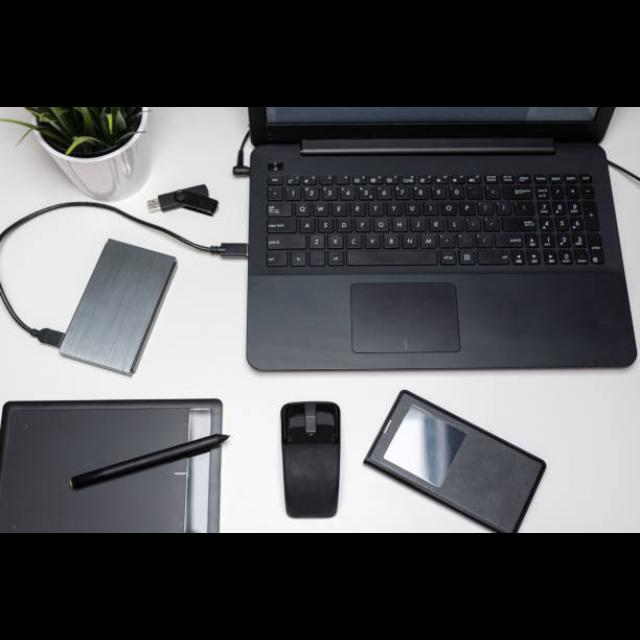HDD: (8, 238, 180, 381)
